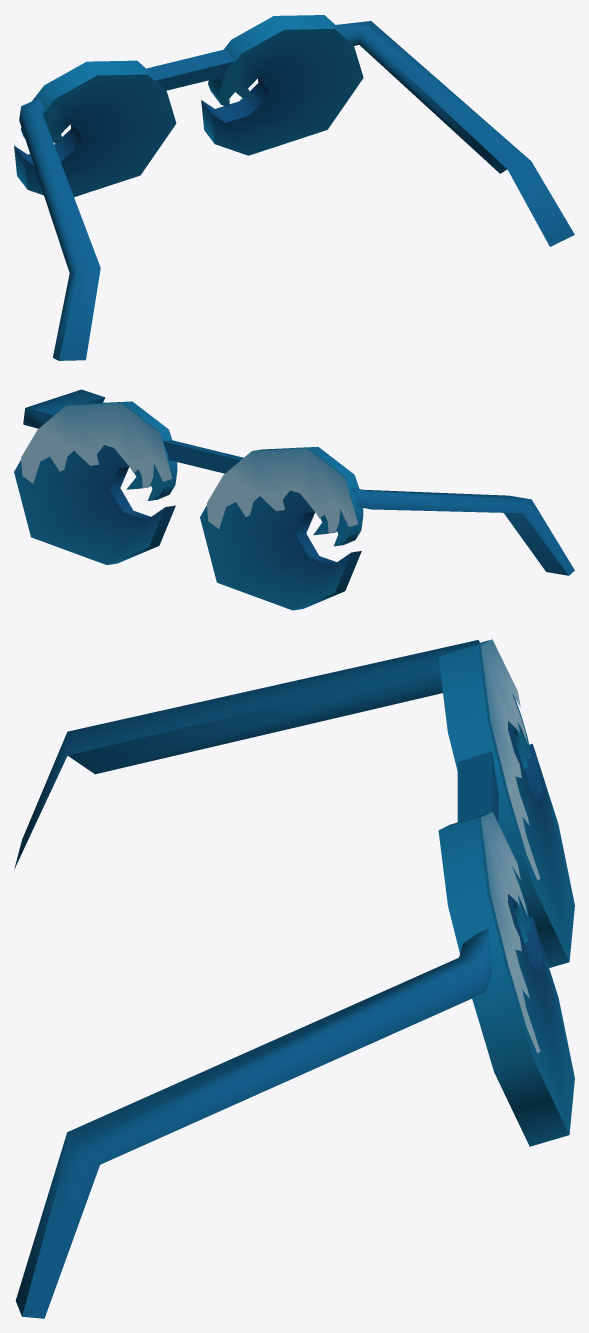
Rendered from hat_oceanglasses.glb.
3 views of the same model, one above another, from view 1: azimuth 30°, elevation 25°; view 2: azimuth 150°, elevation 25°; view 3: azimuth 270°, elevation 25° (orthographic). The views are drawn at different scales.
Parts seen in each view (by area): view 1: hat_oceanglasses; view 2: hat_oceanglasses; view 3: hat_oceanglasses.
Part boxes in pixels (x1,y1,x2,y2): hat_oceanglasses: (14,15,574,360); hat_oceanglasses: (14,389,574,610); hat_oceanglasses: (14,639,574,1318).
Bounding box in the file's own units: 0.5051 × 0.1691 × 0.251.
